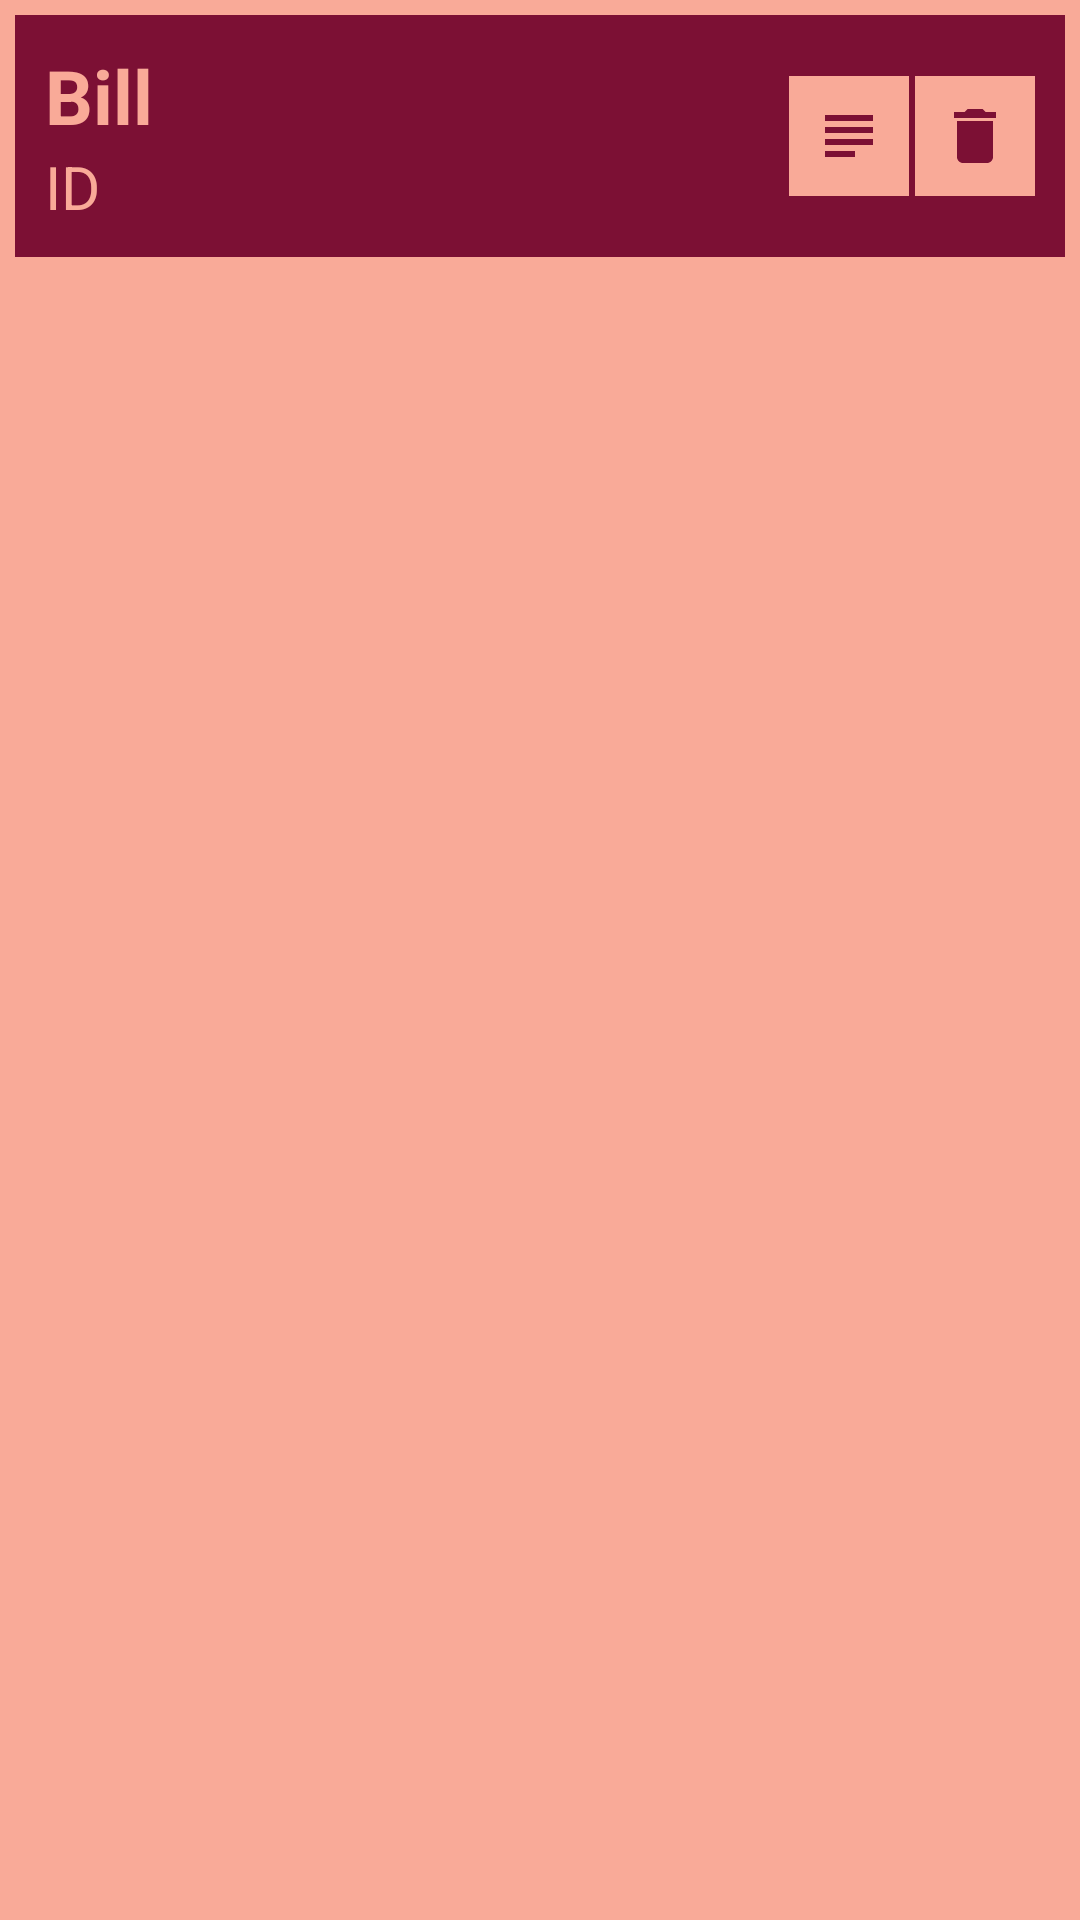

Where icons sit on this 1080 × 1920 app screen, as (x1, y1, x2, y2):
delete: (915, 76, 1035, 196)
subject: (789, 76, 909, 196)
